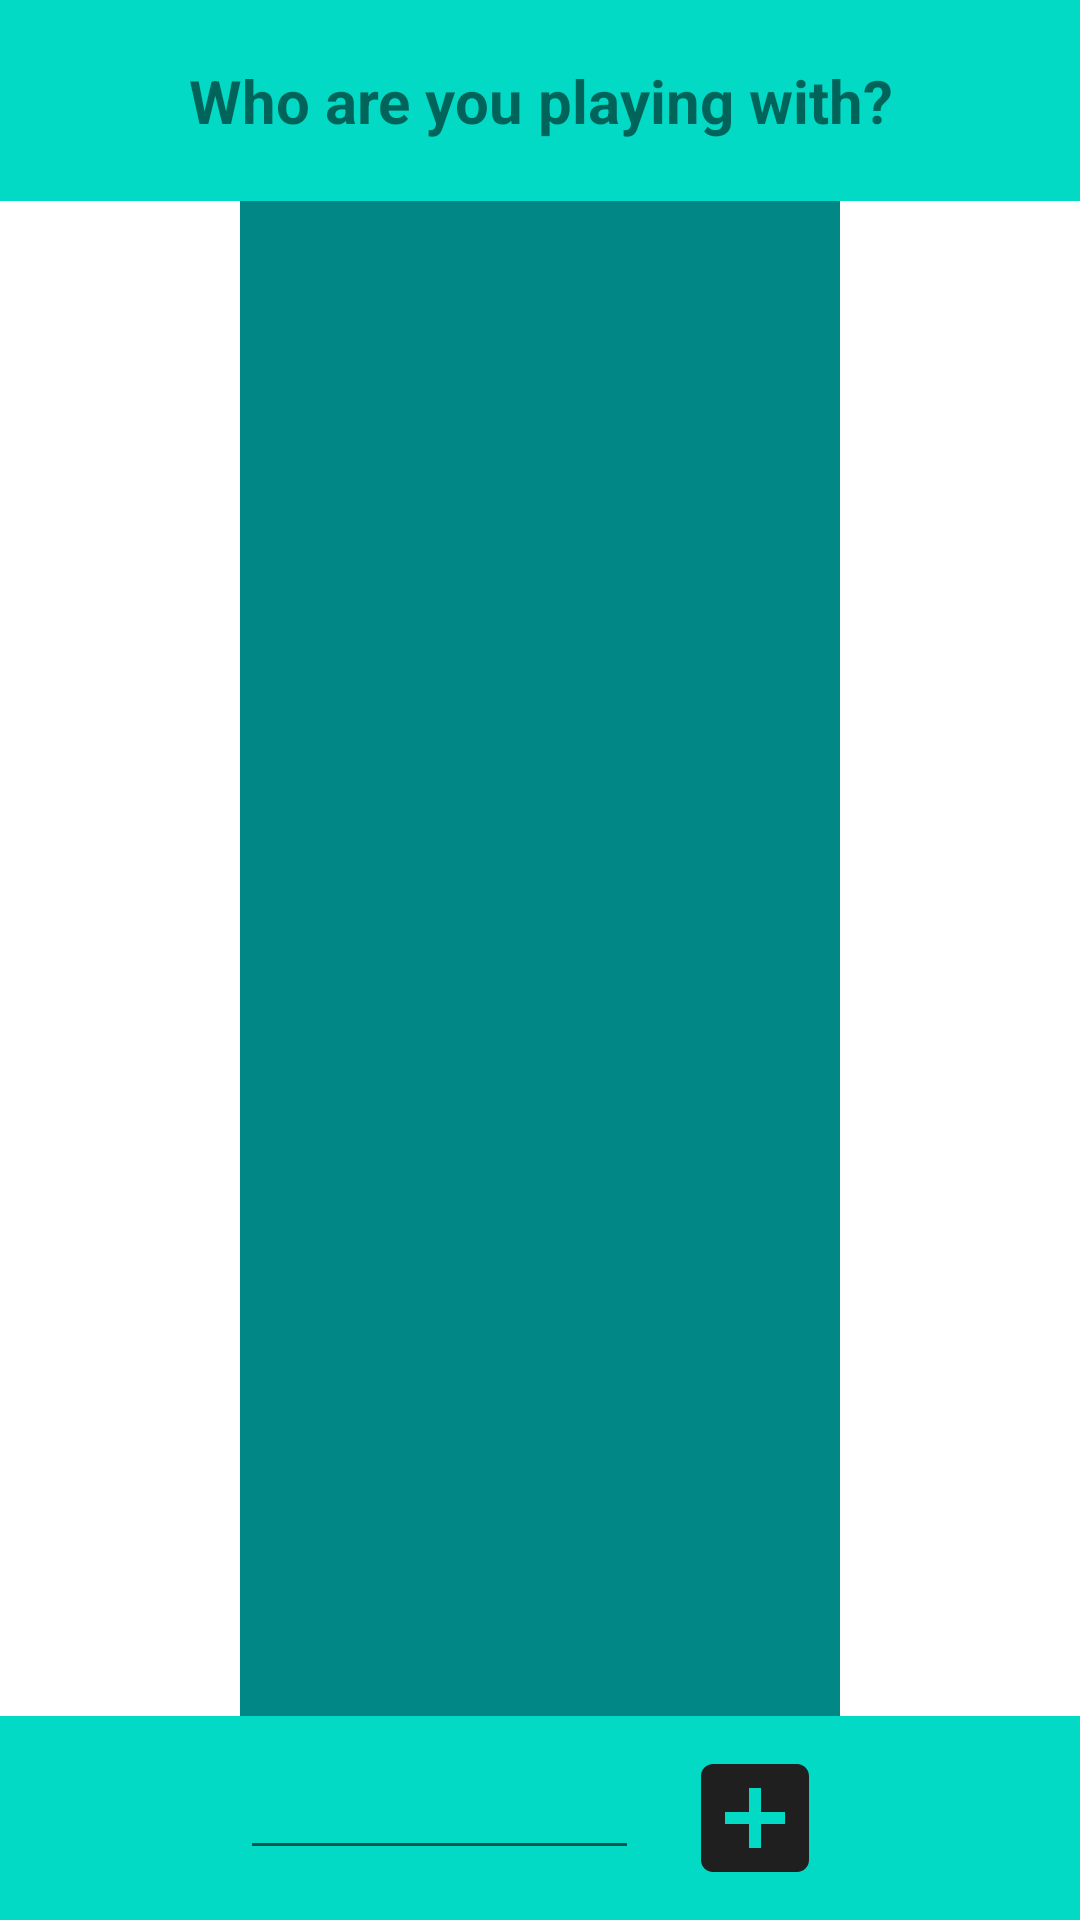

Point at icon controls on the screen. Image size 1080 × 1920, points as point (x, y).
add box: point (755, 1818)
